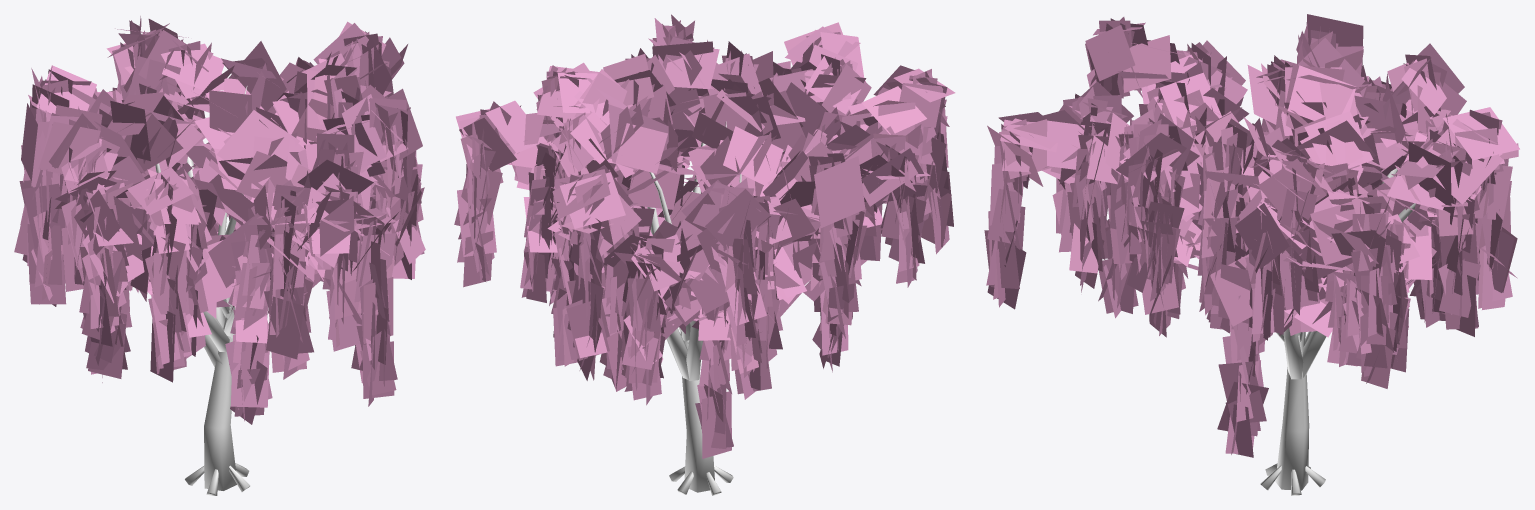
File: SM_Sakura_Weeping_LOD2.fbx
3 views of the same model, side by side, from view 1: azimuth 30°, elevation 25°; view 2: azimuth 150°, elevation 25°; view 3: azimuth 270°, elevation 25° (orthographic). The views are drawn at different scales.
Visible parts, largest first — view 1: SM_Sakura_Weeping_LOD2; view 2: SM_Sakura_Weeping_LOD2; view 3: SM_Sakura_Weeping_LOD2.
Part boxes in pixels (x1,y1,x2,y2): SM_Sakura_Weeping_LOD2: (14, 16, 425, 495); SM_Sakura_Weeping_LOD2: (454, 14, 955, 495); SM_Sakura_Weeping_LOD2: (984, 14, 1519, 495).
Size of what is drawn, in the model's own units: 7.78 by 8.97 by 7.53.
